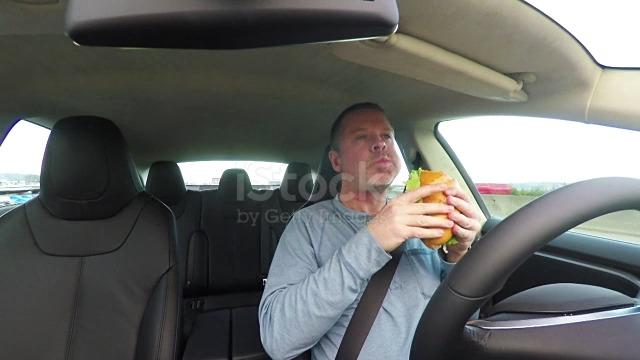Eating: (307, 93, 490, 265)
